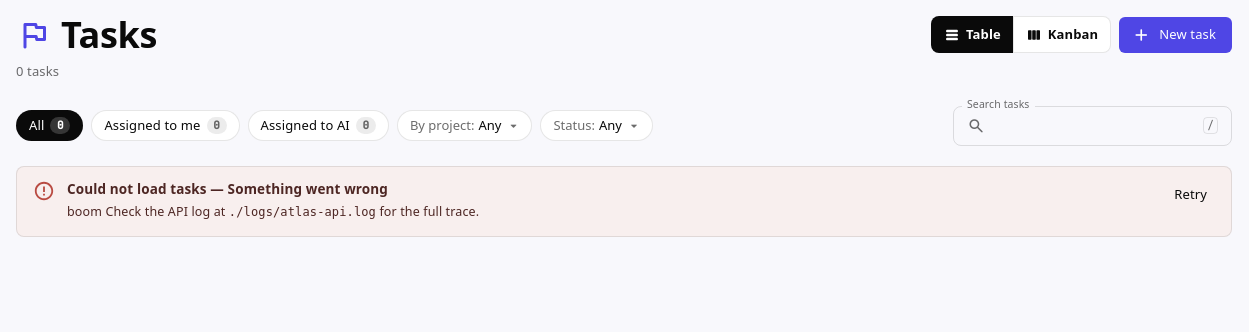
Test: Tasks page › a failed task load says so with Retry, not an empty list; Retry recovers
Expected: the text "Could not load tasks — Something went wrong" is shown, [67,180,388,198]
Click the button "Retry" at (1191, 195), box [1158,177,1223,213]
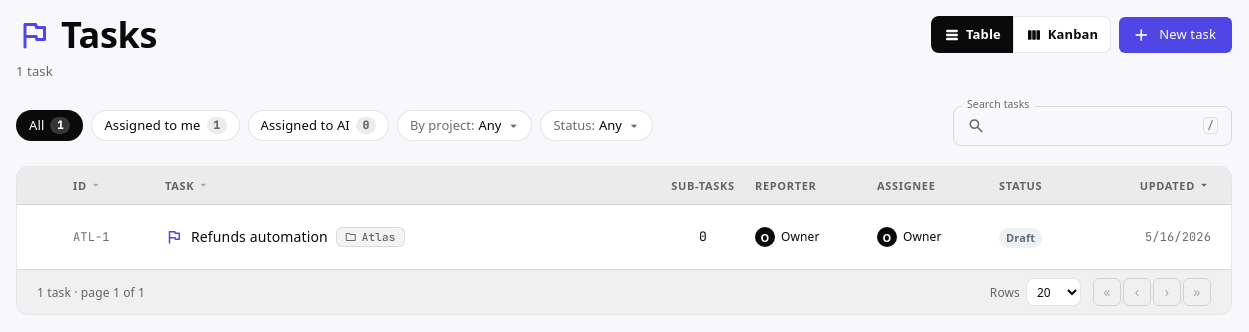
Expected: the text "Refunds automation" is shown, [191,226,328,248]
